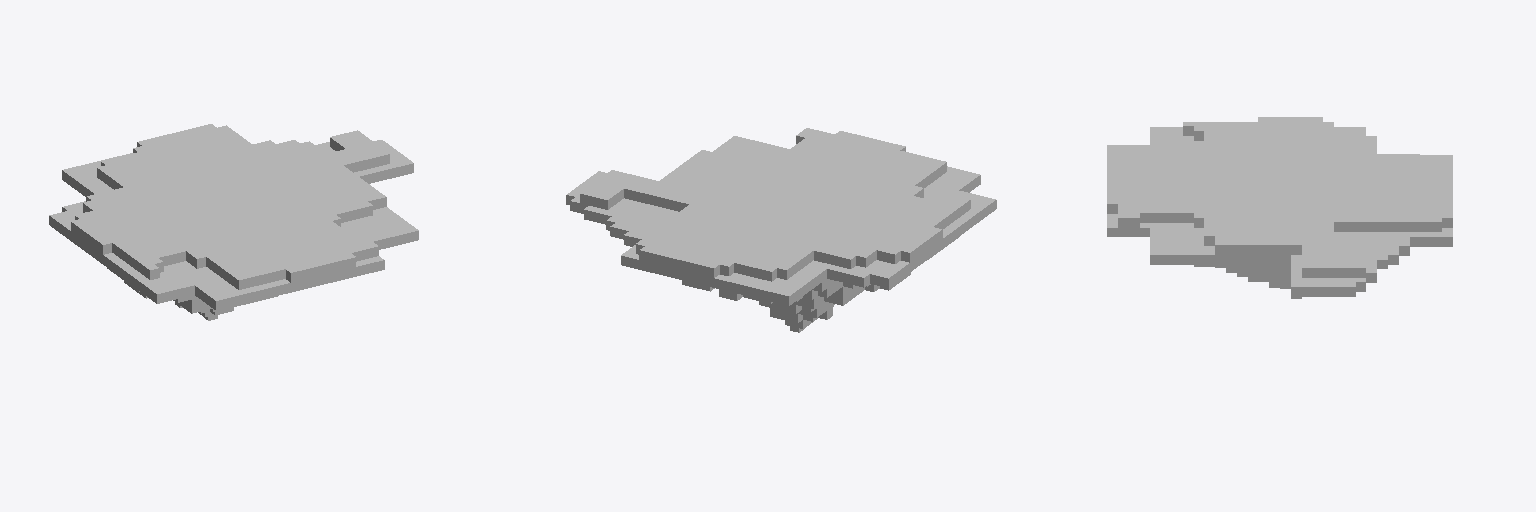
The model's file is Ice 3.obj.
3 views of the same model, side by side, from view 1: azimuth 30°, elevation 25°; view 2: azimuth 150°, elevation 25°; view 3: azimuth 270°, elevation 25° (orthographic).
Parts seen in each view (by area): view 1: object 1; view 2: object 1; view 3: object 1.
Part boxes in pixels (x1,y1,x2,y2): object 1: (49,124,418,320); object 1: (566,128,996,332); object 1: (1107,117,1452,298).
Bounding box in the file's own units: 3.5 × 1.2 × 3.2.